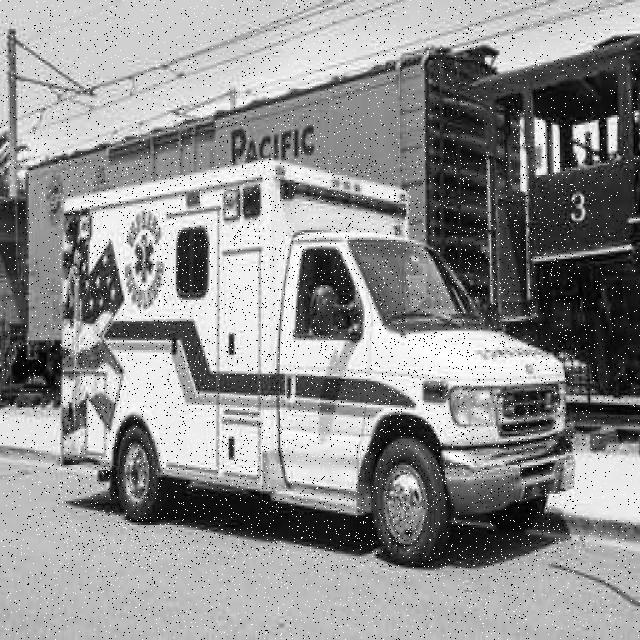Ambulance: (59, 156, 576, 568)
